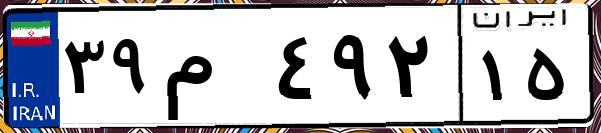1: (475, 38, 525, 113)
2: (385, 28, 445, 110)
3: (57, 26, 110, 100)
4: (270, 28, 330, 110)
5: (525, 38, 570, 115)
9: (330, 28, 385, 110), (110, 28, 158, 98)
م: (158, 20, 270, 120)
